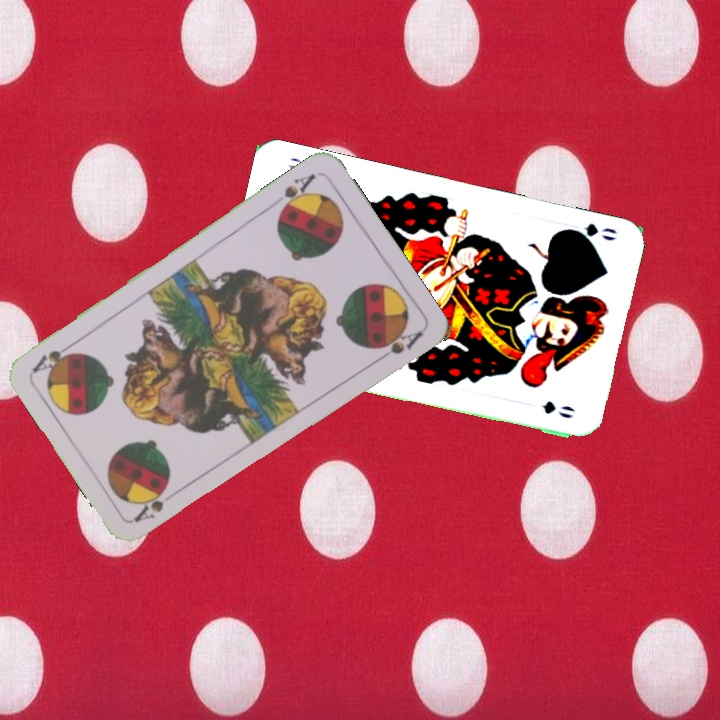GO: (560, 219, 620, 246)
SA: (130, 483, 182, 526), (275, 169, 319, 217)
